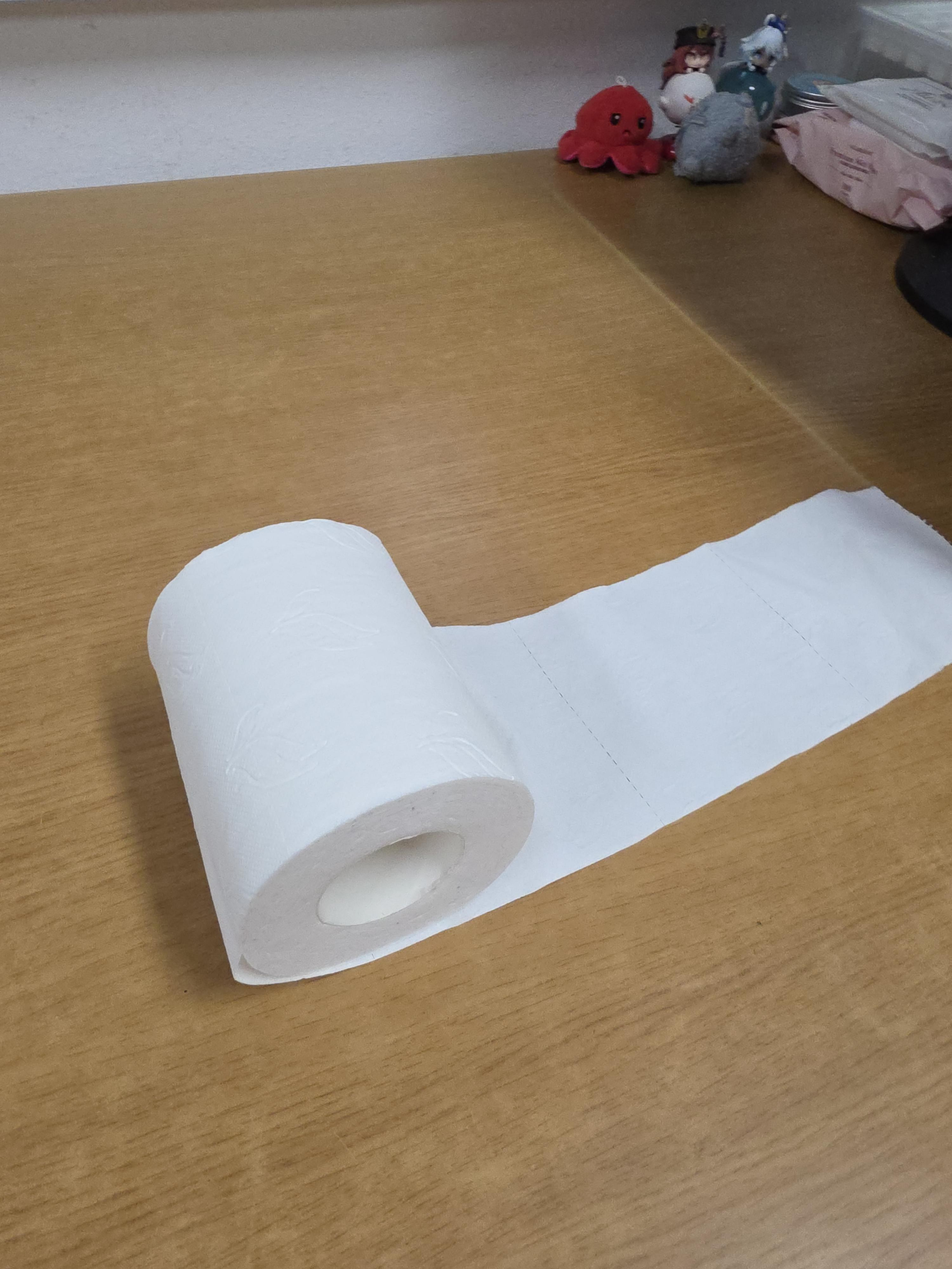tissue: (147, 484, 951, 985)
